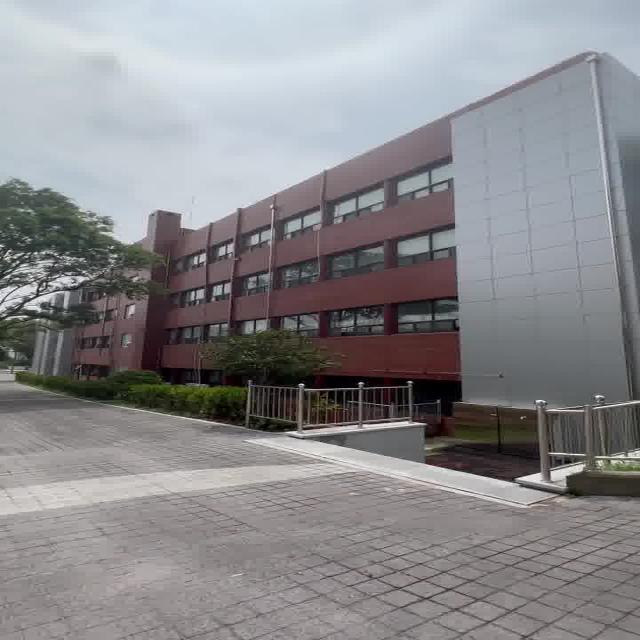building: (130, 140, 640, 374)
